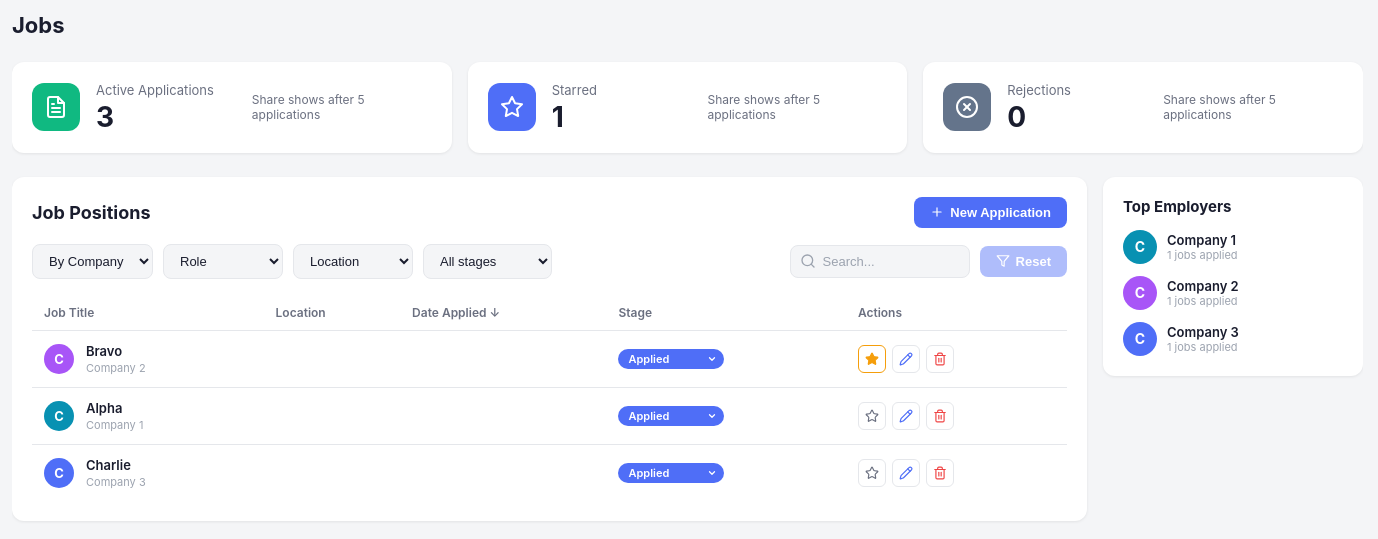
it: Jobs star feature › rolls back and shows a toast when the request fails or times out
Click the button named "Star" in the row of "Alpha".
click(872, 416)  # box [858, 402, 886, 430]
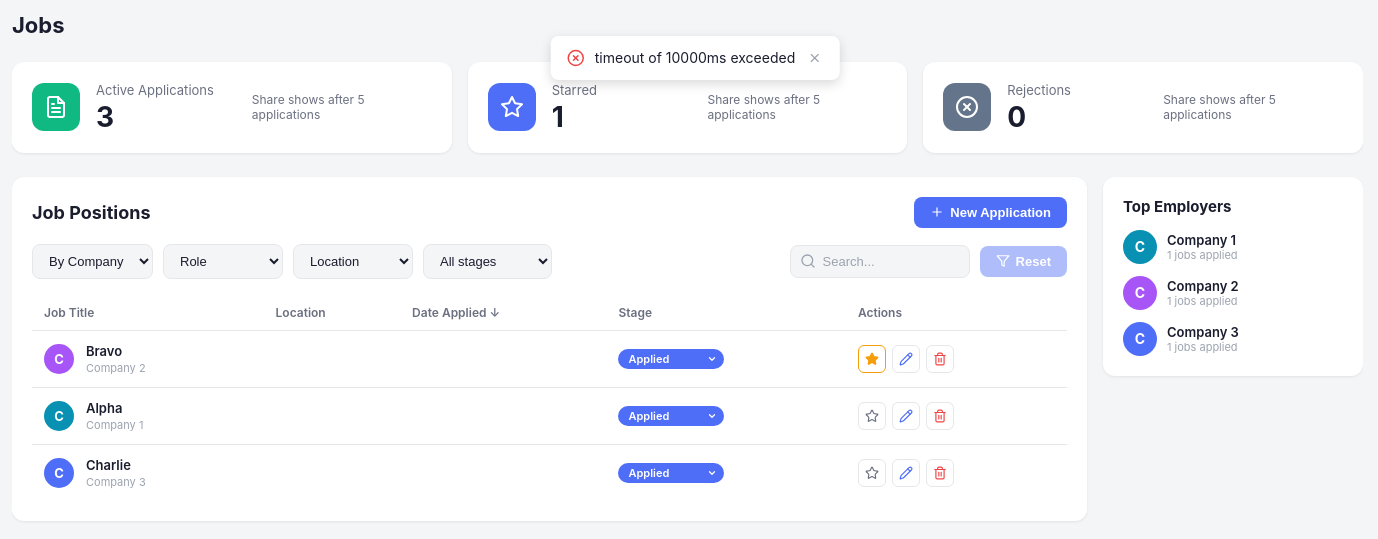
Check: the text "timeout of 10000ms exceeded" is shown, box [595, 48, 795, 68]
